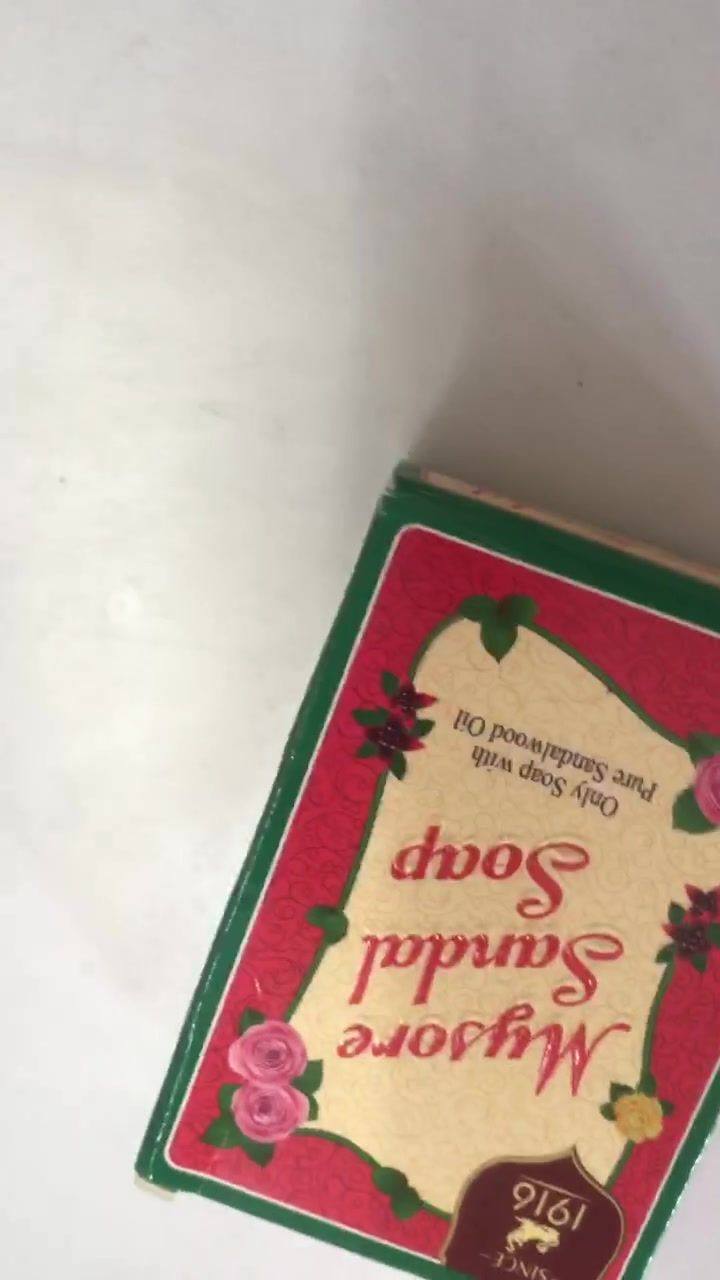mysore sandal soap: (131, 464, 709, 1273)
